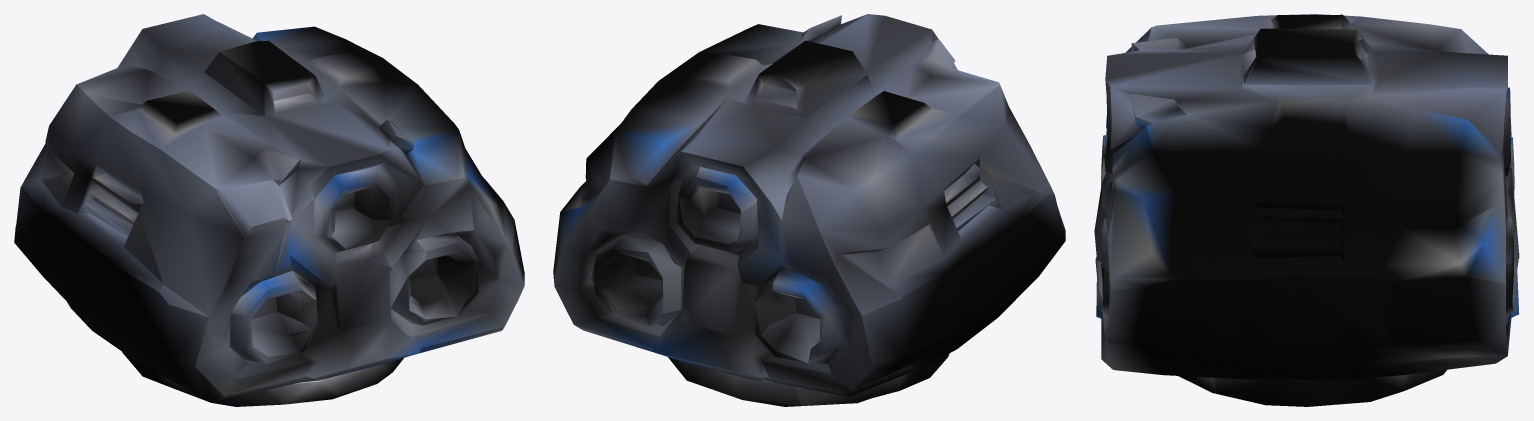
Rendered from c5319545-tower-05e10b15.glb.
3 views of the same model, side by side, from view 1: azimuth 30°, elevation 25°; view 2: azimuth 150°, elevation 25°; view 3: azimuth 270°, elevation 25° (orthographic). The views are drawn at different scales.
Parts seen in each view (by area): view 1: geometry_0; view 2: geometry_0; view 3: geometry_0.
Part boxes in pixels (x1,y1,x2,y2): geometry_0: (14, 14, 524, 406); geometry_0: (553, 14, 1065, 406); geometry_0: (1094, 14, 1519, 406).
Size of the model in its own units: 1 by 0.7308 by 0.9134.
1 material, 1 textured.
